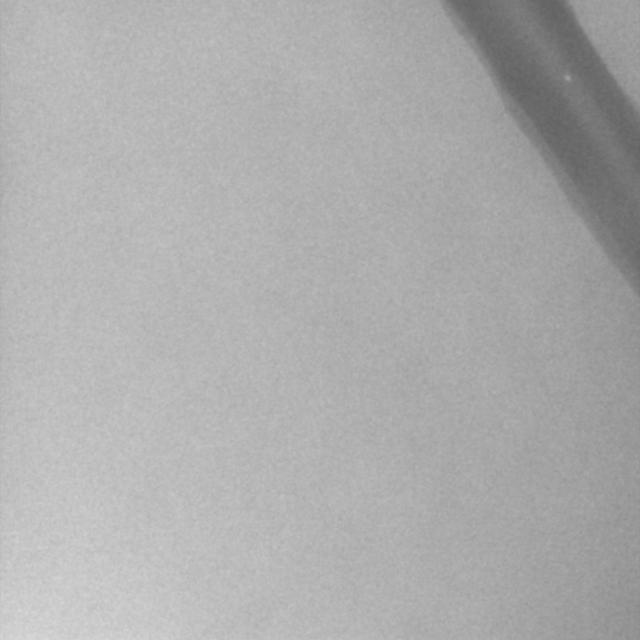air hole: (561, 71, 572, 85)
